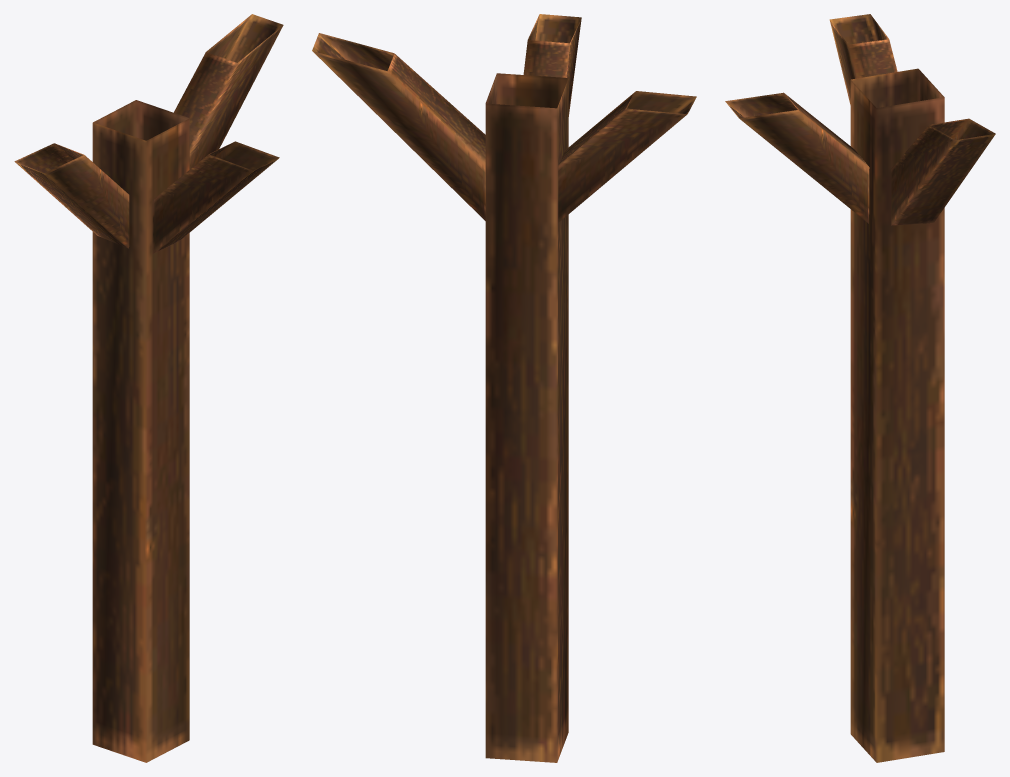
Rendered from SWORDLIGHT20_JAILPLATSUPPORT56.fbx.
3 views of the same model, side by side, from view 1: azimuth 30°, elevation 25°; view 2: azimuth 150°, elevation 25°; view 3: azimuth 270°, elevation 25° (orthographic). The views are drawn at different scales.
Parts seen in each view (by area): view 1: SWORDLIGHT20_JAILPLATSUPPORT56; view 2: SWORDLIGHT20_JAILPLATSUPPORT56; view 3: SWORDLIGHT20_JAILPLATSUPPORT56.
Boxes of the visible parts, box(x1,y1,x2,y2) form: SWORDLIGHT20_JAILPLATSUPPORT56: box(14, 14, 283, 762); SWORDLIGHT20_JAILPLATSUPPORT56: box(312, 14, 696, 762); SWORDLIGHT20_JAILPLATSUPPORT56: box(725, 14, 995, 762).
Size of the model in its own units: 20753 by 41975 by 14933.
1 material, 1 textured.
